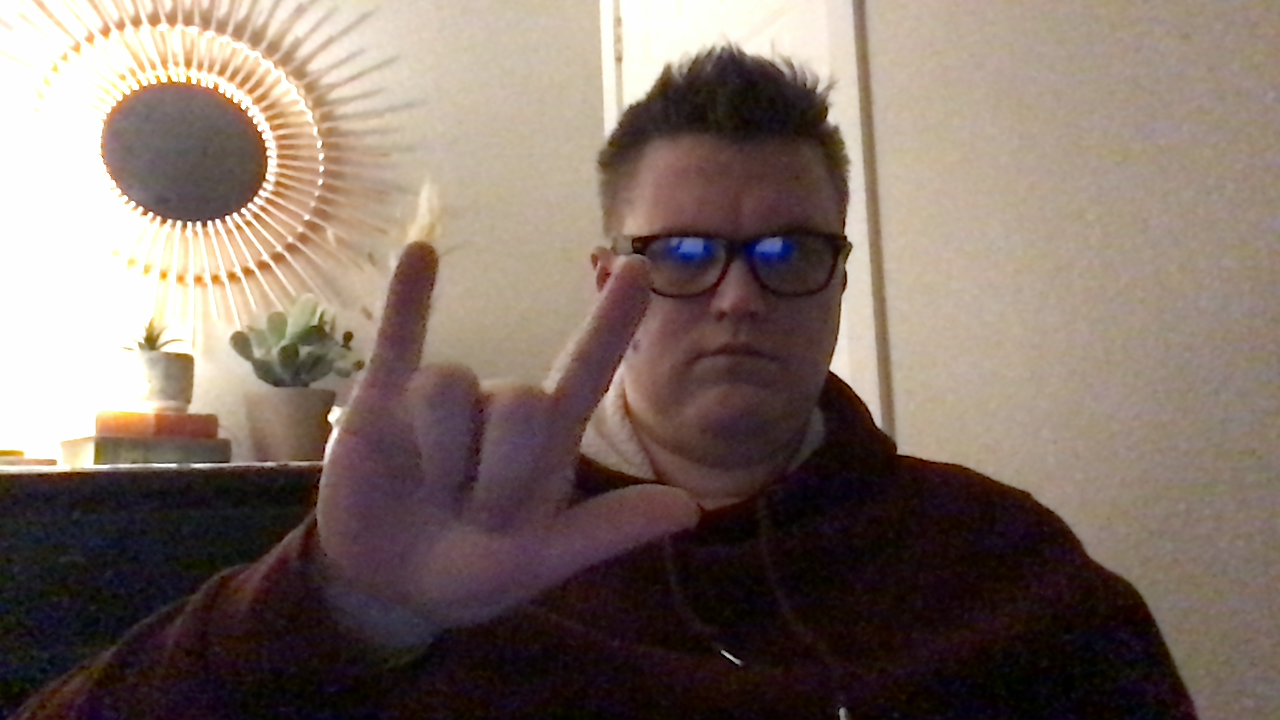iloveyou: (312, 235, 704, 633)
